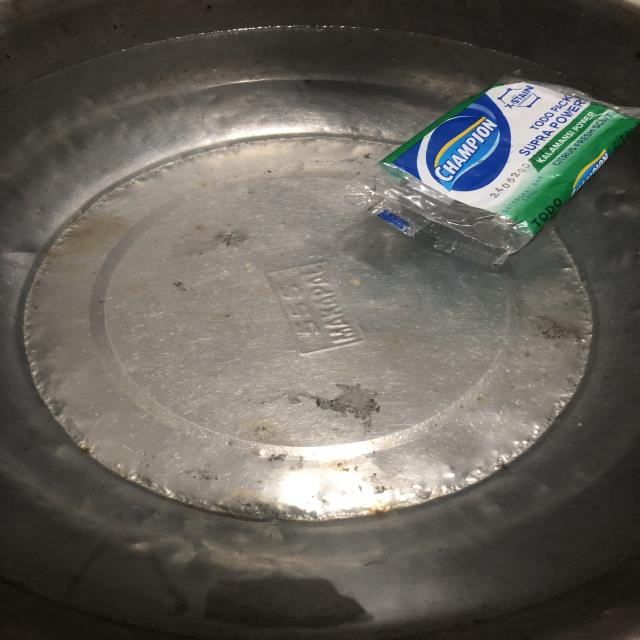Plastic Wrapper: (360, 82, 640, 254)
